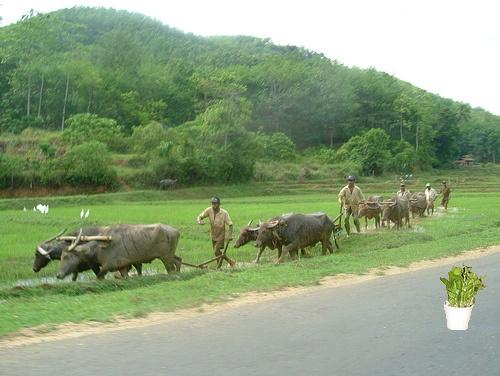tampered: (441, 264, 486, 330)
